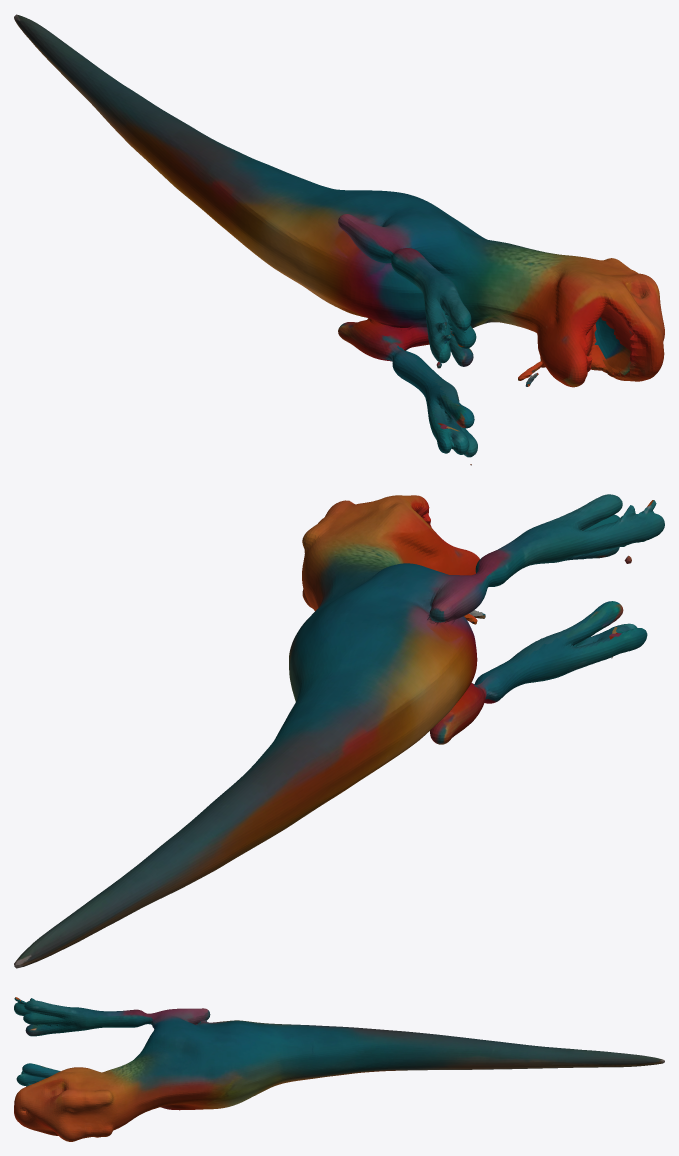
File: trex.glb
3 views of the same model, one above another, from view 1: azimuth 30°, elevation 25°; view 2: azimuth 150°, elevation 25°; view 3: azimuth 270°, elevation 25° (orthographic). The views are drawn at different scales.
Parts seen in each view (by area): view 1: trex_textured.obj; view 2: trex_textured.obj; view 3: trex_textured.obj.
Boxes of the visible parts, x1=… form: trex_textured.obj: x1=14, y1=14, x2=664, y2=465; trex_textured.obj: x1=14, y1=494, x2=664, y2=968; trex_textured.obj: x1=14, y1=997, x2=664, y2=1141.
Bounding box in the file's own units: 0.5927 × 0.3299 × 1.99.
Materials: 1 (1 with a texture image).
